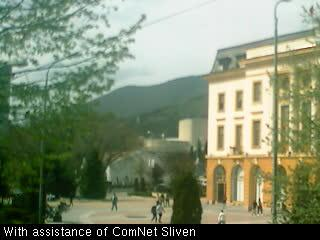person: (110, 191, 119, 212), (157, 201, 165, 224), (150, 201, 158, 223), (251, 198, 258, 217), (217, 209, 225, 223), (164, 190, 171, 206), (257, 197, 263, 215), (160, 192, 166, 206), (69, 194, 75, 207)
